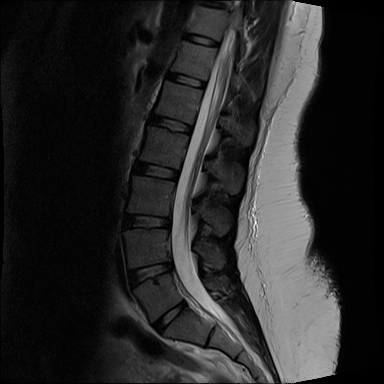Normal IVD: (145, 293, 192, 339), (123, 255, 178, 291), (125, 155, 183, 186), (142, 109, 196, 139), (115, 210, 173, 234), (161, 65, 209, 93), (178, 30, 224, 51)
